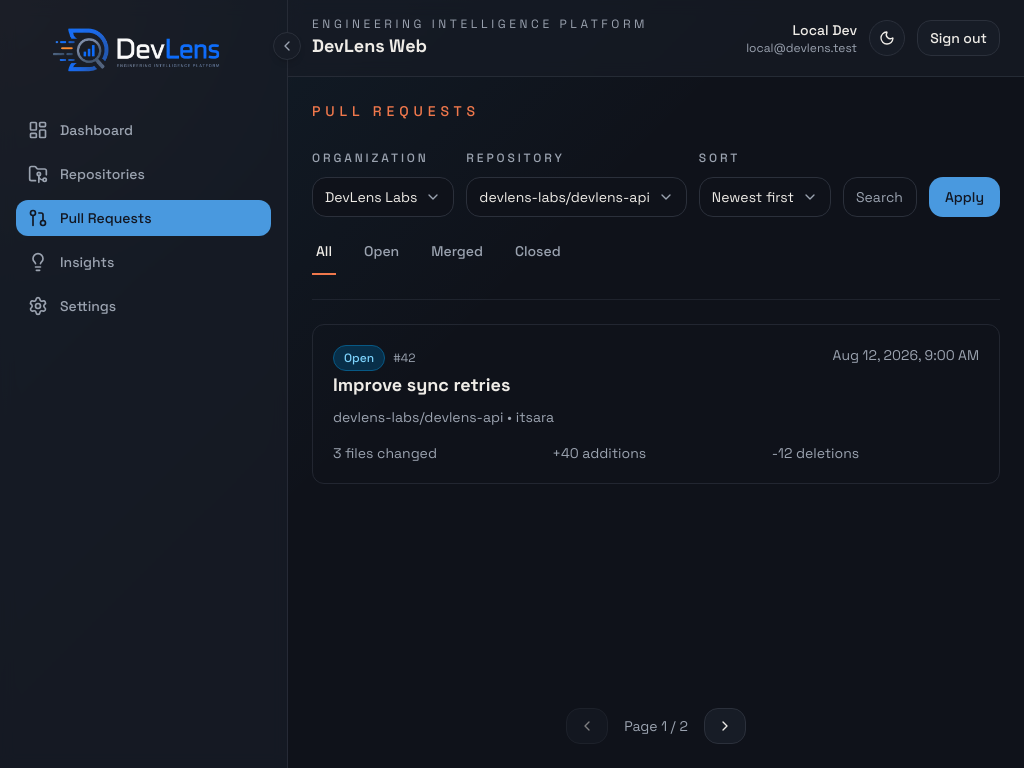
Test case: pull requests routes › paginates through multiple pages of pull requests
The width and height of the screenshot is (1024, 768).
Expected: the link "Improve sync retries" is shown, [333,373,510,396]
Expected: the text "Page 1 / 2" is shown, [624,716,688,736]
Click the button named "Next page".
click(725, 726)  # box [704,708,746,744]
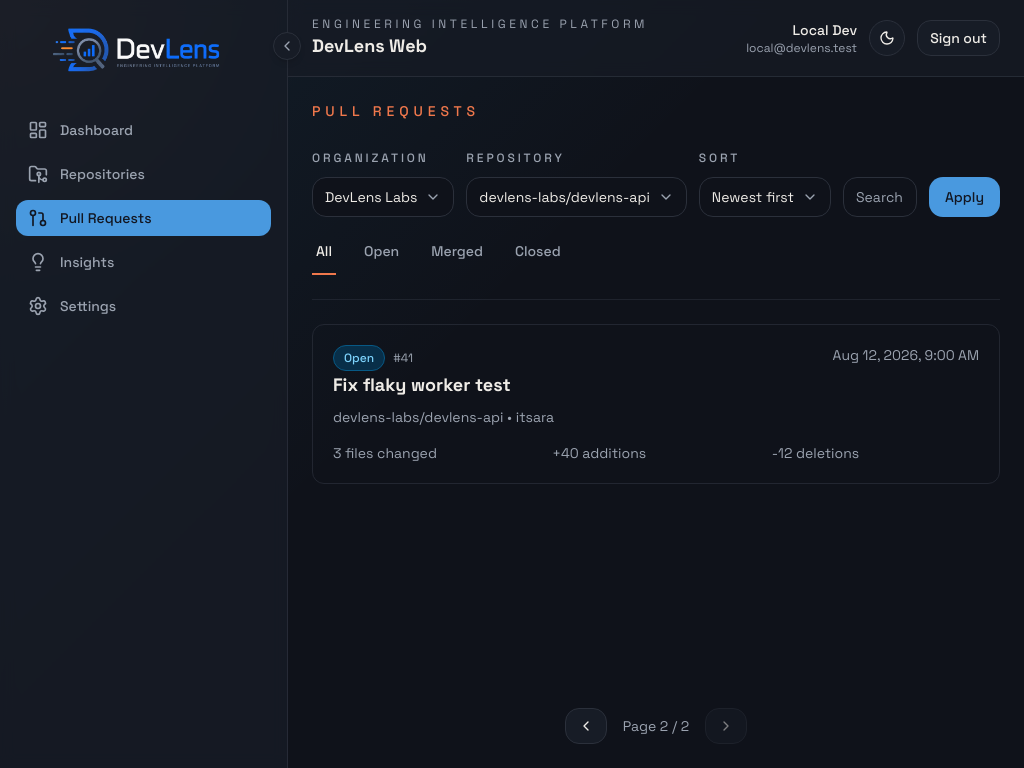
Expected: the link "Fix flaky worker test" is shown, [333,373,511,396]
Expected: the text "Page 2 / 2" is shown, [623,716,689,736]
